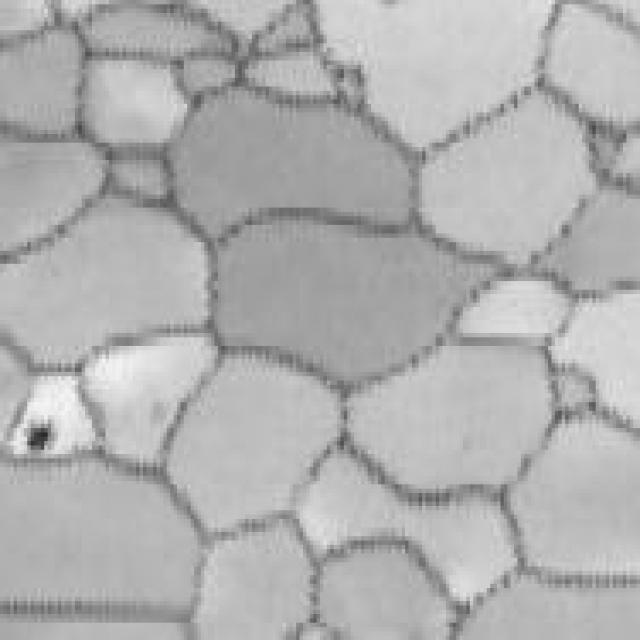good_void: (25, 416, 59, 451)
